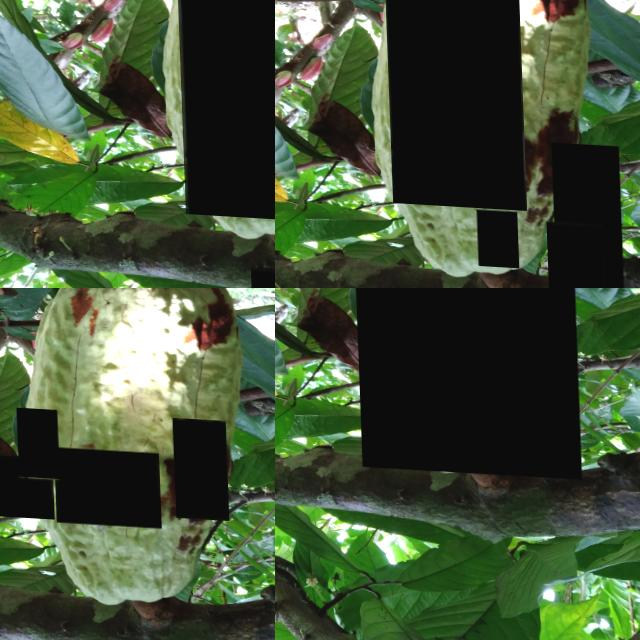Fitoftora: (347, 288, 578, 474), (382, 0, 524, 205), (173, 0, 275, 223), (0, 452, 51, 516)
Sana: (549, 137, 620, 288), (52, 444, 159, 523), (171, 413, 227, 515), (543, 216, 601, 288), (14, 405, 57, 477), (474, 205, 516, 264), (247, 263, 275, 288)
